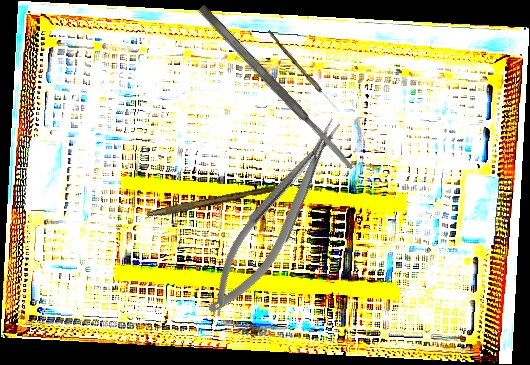Needle Holder: (192, 112, 361, 325)
Scalpel Handle: (146, 182, 277, 222)
Spatula Surgical: (196, 3, 357, 173)
Surgical Spoon: (265, 30, 342, 113)
